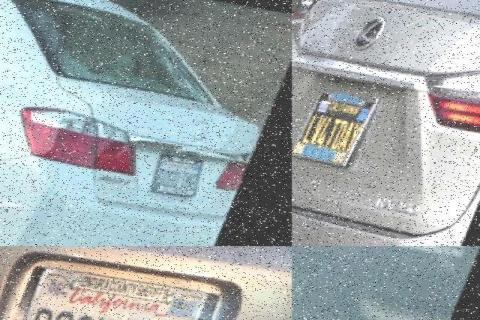LicensePlate: (6, 265, 215, 320), (294, 89, 376, 165), (292, 247, 390, 280), (153, 153, 206, 194)
